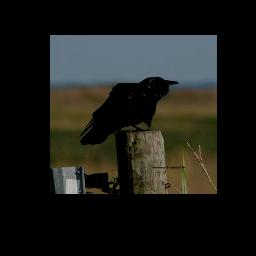Crow: (78, 76, 180, 146)
